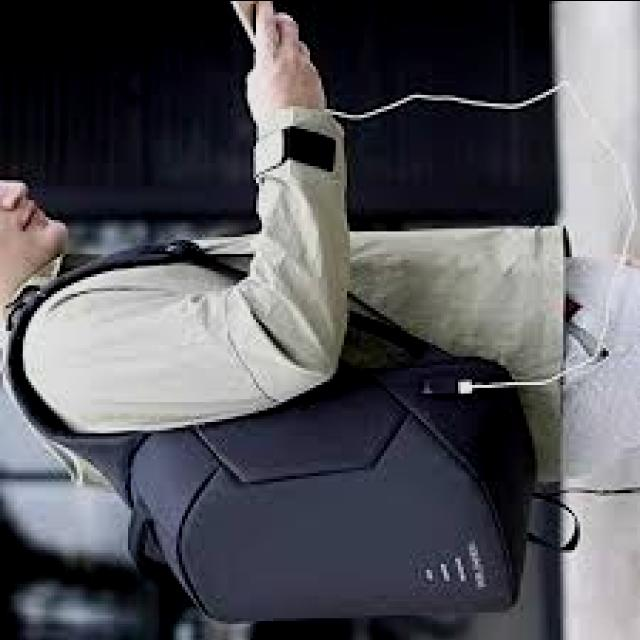backpack: (1, 243, 539, 627)
